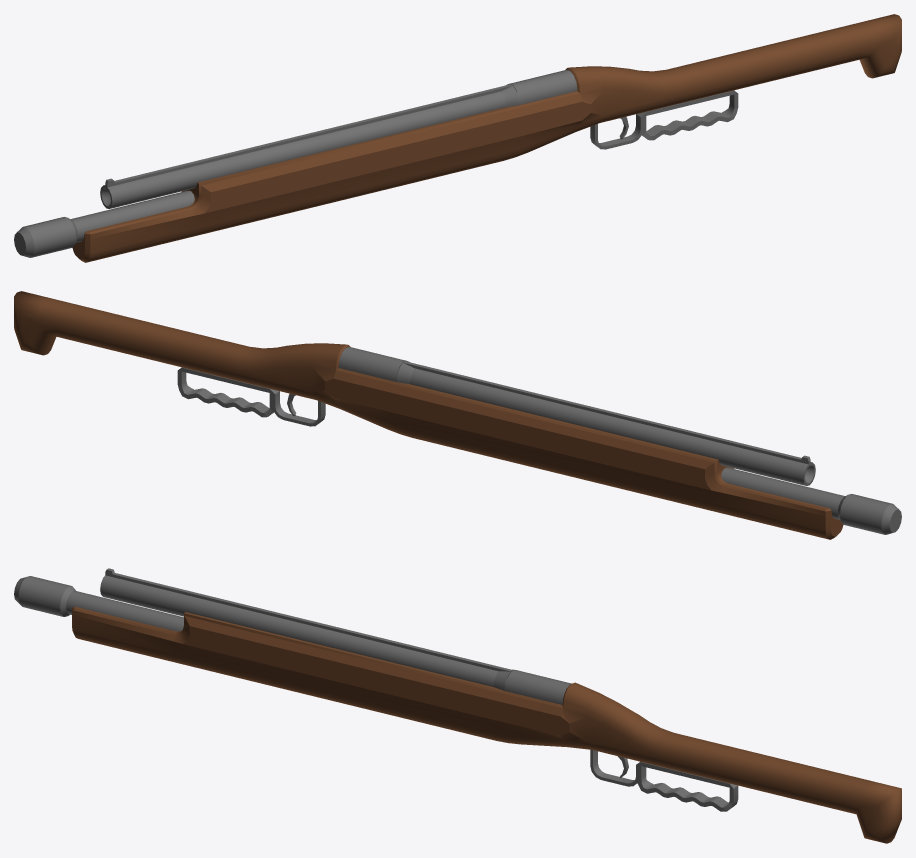
File: BatGub_Beta.fbx
The picture shows the model from 3 angles, top to bottom: view 1: azimuth 30°, elevation 25°; view 2: azimuth 150°, elevation 25°; view 3: azimuth 330°, elevation 25°; orthographic projection.
Visible parts, largest first — view 1: Cube; view 2: Cube; view 3: Cube.
Part boxes in pixels (bbox=[...]): Cube: bbox=[14, 14, 901, 262]; Cube: bbox=[14, 291, 901, 539]; Cube: bbox=[14, 568, 901, 843].
Size of the model in its own units: 82 by 8 by 3.44.
